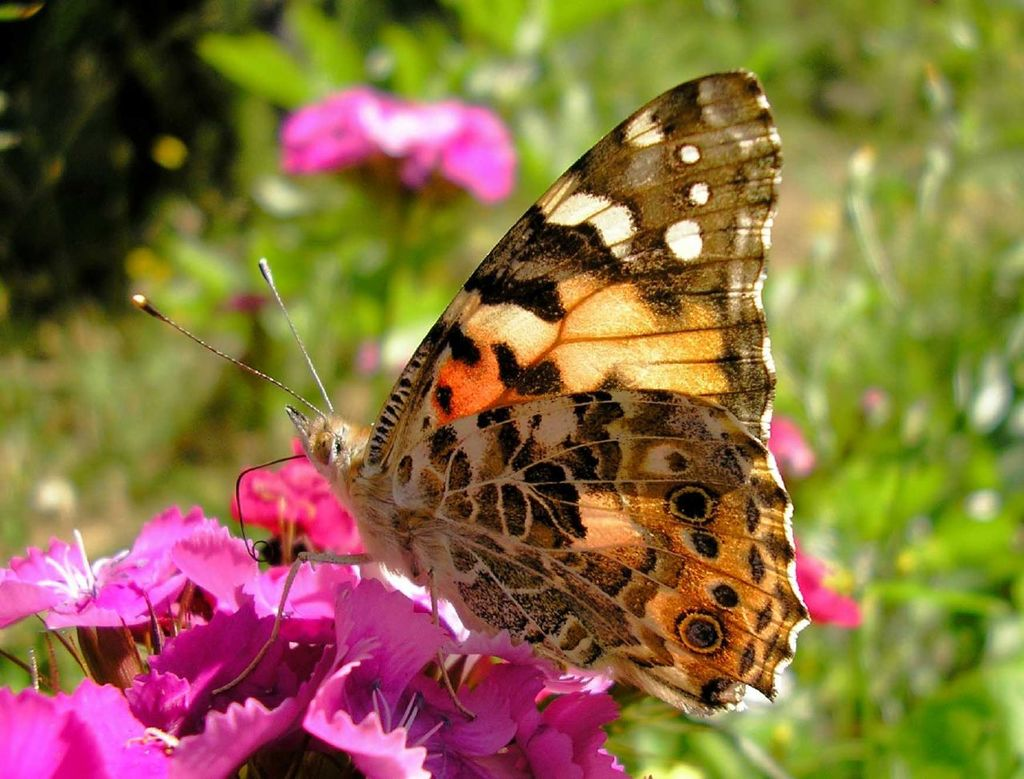Butterfly: (211, 58, 826, 730)
